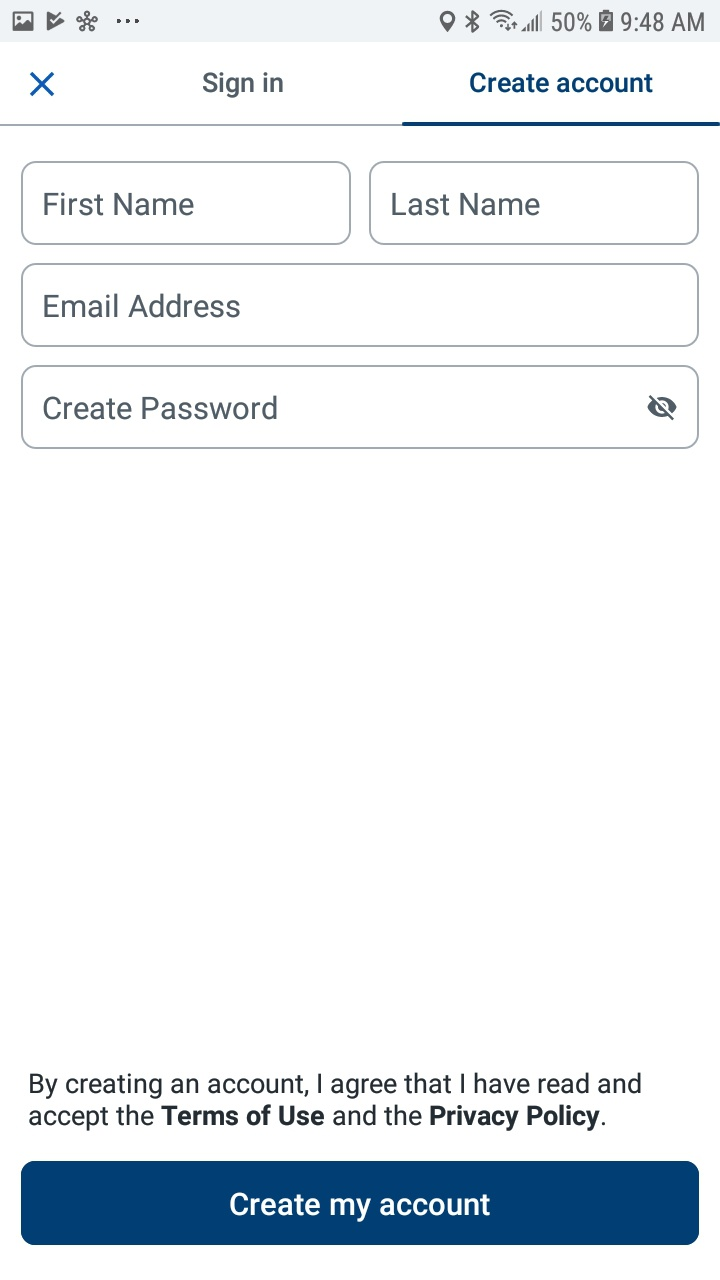EditText: (21, 365, 700, 450), (21, 263, 700, 348), (21, 161, 352, 246), (369, 161, 699, 246)
Icon: (647, 395, 677, 421), (30, 72, 56, 98)
Text: (29, 1072, 642, 1132), (44, 395, 278, 421), (45, 294, 241, 319), (470, 72, 653, 94), (44, 193, 195, 217), (391, 193, 540, 217), (203, 72, 284, 99)
TextButton: (21, 1160, 700, 1246)
UpperTaskBar: (1, 1, 720, 43)
